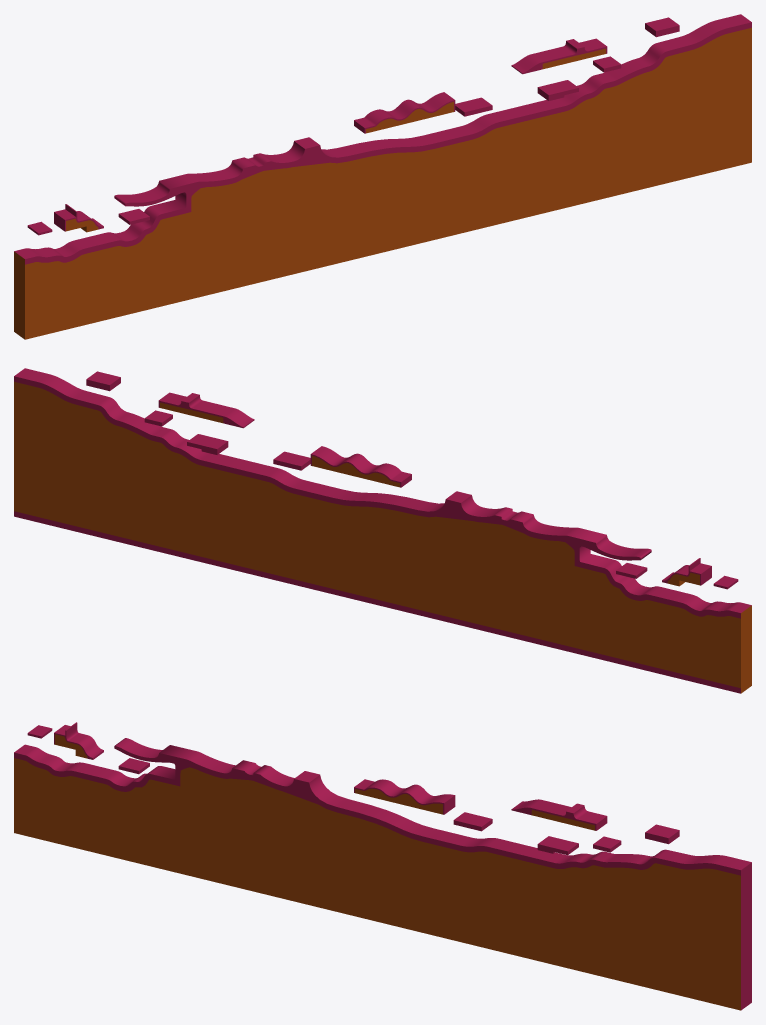
The model's file is GardenMeshA.fbx.
3 renders of one model, top to bottom at view 1: azimuth 30°, elevation 25°; view 2: azimuth 150°, elevation 25°; view 3: azimuth 330°, elevation 25°, orthographic.
Visible parts, largest first — view 1: GardenMeshA, GardenPlatform4, GardenPlatform6, GardenPlatform2, GardenPlatform7; view 2: GardenMeshA, GardenPlatform4, GardenPlatform6, GardenPlatform2, GardenPlatform7; view 3: GardenMeshA, GardenPlatform4, GardenPlatform6, GardenPlatform2, GardenPlatform7, GardenPlatform5, GardenPlatform9.
Part boxes in pixels (x1=…): GardenMeshA: x1=14, y1=14, x2=751, y2=339; GardenPlatform4: x1=354, y1=92, x2=455, y2=133; GardenPlatform6: x1=511, y1=38, x2=607, y2=74; GardenPlatform2: x1=54, y1=204, x2=103, y2=232; GardenPlatform7: x1=537, y1=80, x2=578, y2=100; GardenMeshA: x1=14, y1=368, x2=751, y2=693; GardenPlatform4: x1=310, y1=446, x2=411, y2=487; GardenPlatform6: x1=158, y1=392, x2=254, y2=428; GardenPlatform2: x1=662, y1=558, x2=711, y2=586; GardenPlatform7: x1=187, y1=434, x2=228, y2=454; GardenMeshA: x1=14, y1=738, x2=751, y2=1010; GardenPlatform4: x1=354, y1=779, x2=455, y2=814; GardenPlatform6: x1=511, y1=799, x2=607, y2=830; GardenPlatform2: x1=54, y1=722, x2=103, y2=759; GardenPlatform7: x1=537, y1=836, x2=578, y2=855; GardenPlatform5: x1=453, y1=812, x2=492, y2=831; GardenPlatform9: x1=645, y1=824, x2=679, y2=844.
Bounding box in the file's own units: 38.22 × 7.86 × 1.
